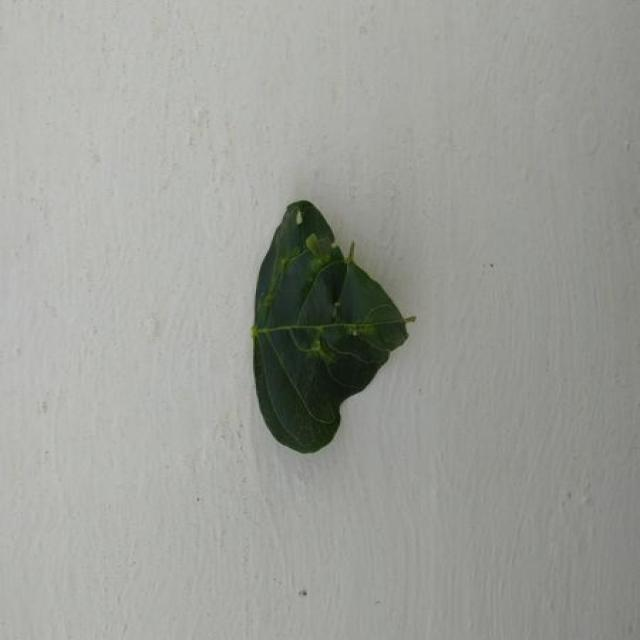honge: (252, 201, 415, 452)
